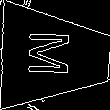M_E: (30, 33, 81, 81)
